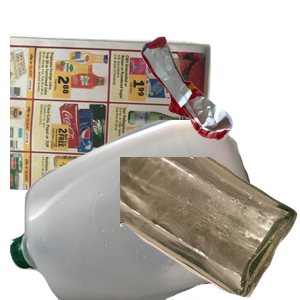glass: (120, 157, 300, 300)
paper: (10, 31, 214, 211)
plastic: (10, 120, 250, 300)
trash: (139, 34, 300, 167)
